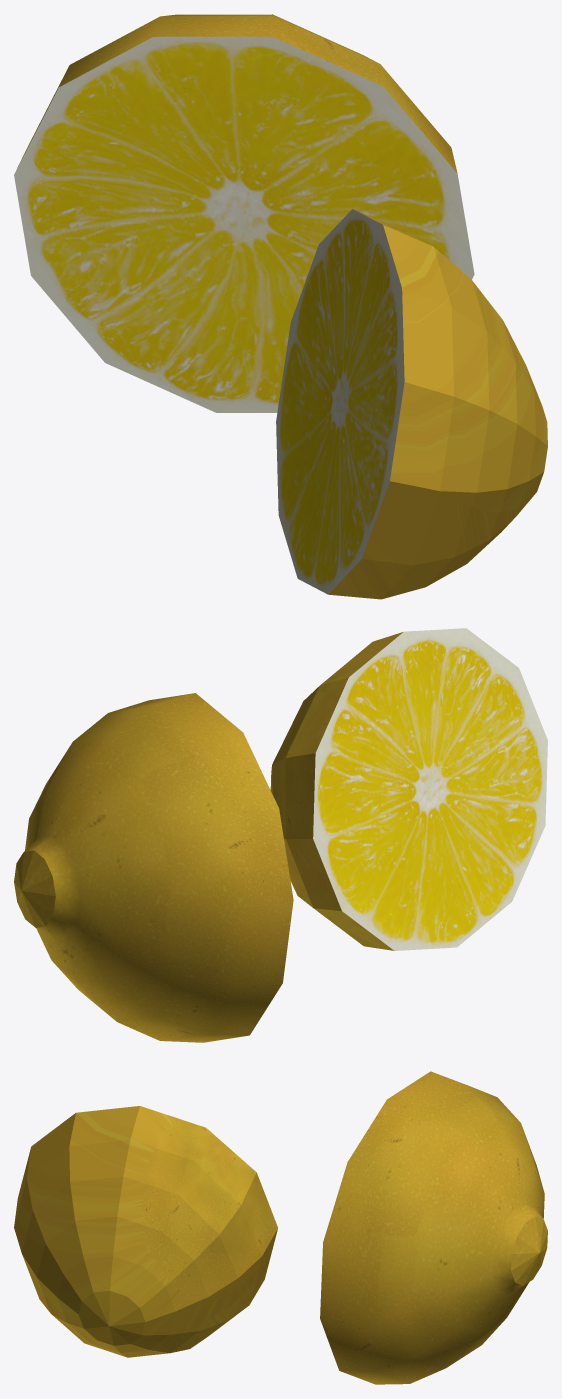
The model's file is Lemon slices.fbx.
The picture shows the model from 3 angles, top to bottom: view 1: azimuth 30°, elevation 25°; view 2: azimuth 150°, elevation 25°; view 3: azimuth 270°, elevation 25°; orthographic projection. The views are drawn at different scales.
Visible parts, largest first — view 1: Lemon_slices; view 2: Lemon_slices; view 3: Lemon_slices.
Boxes of the visible parts, box(x1,y1,x2,y2) form: Lemon_slices: box(14, 14, 547, 599); Lemon_slices: box(14, 628, 547, 1042); Lemon_slices: box(14, 1071, 547, 1384).
Bounding box in the file's own units: 10.02 × 10.49 × 18.38.
Materials: 2 (2 with a texture image).
